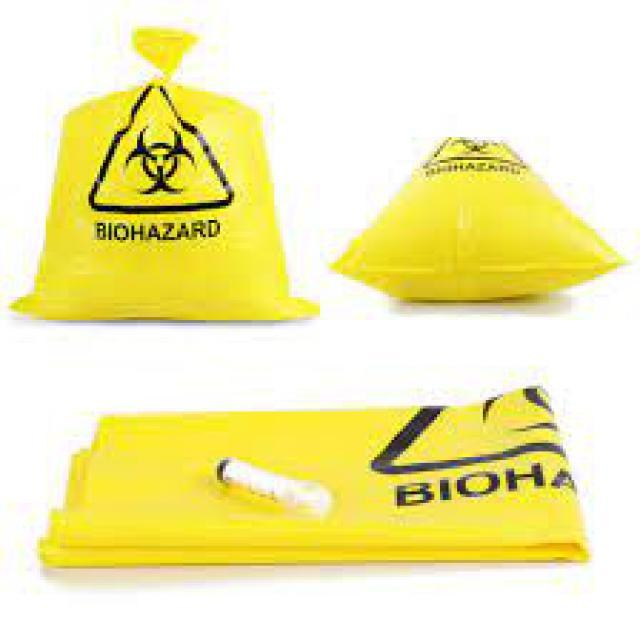waste: (46, 388, 586, 568), (16, 19, 318, 333), (334, 123, 626, 320)
